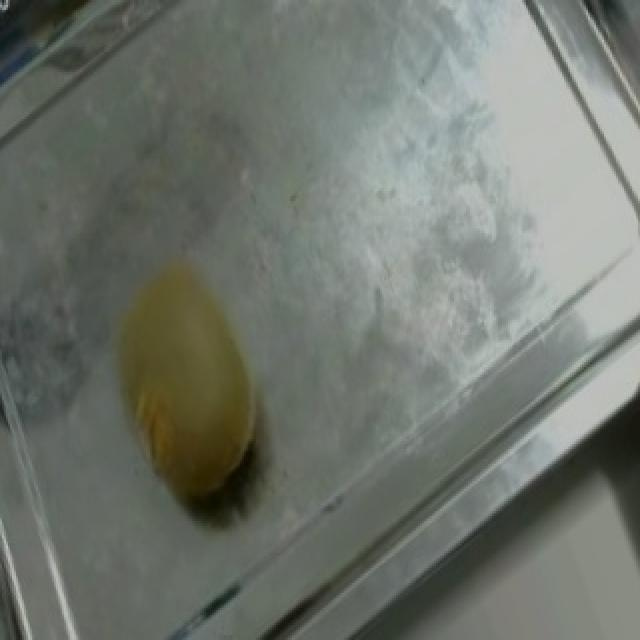Fruit: (70, 236, 304, 533)
